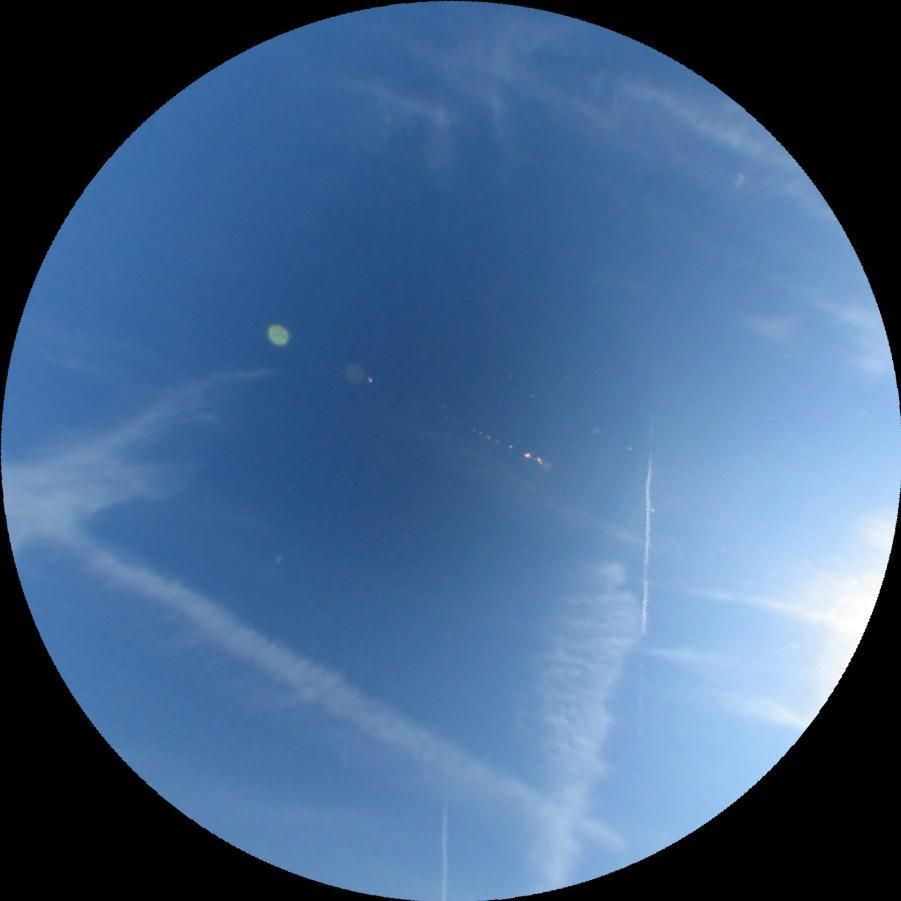contrail old: (439, 807, 447, 901)
contrail veryold: (27, 509, 629, 896), (466, 549, 651, 898), (760, 491, 901, 723)
contrail young: (635, 418, 654, 736)
